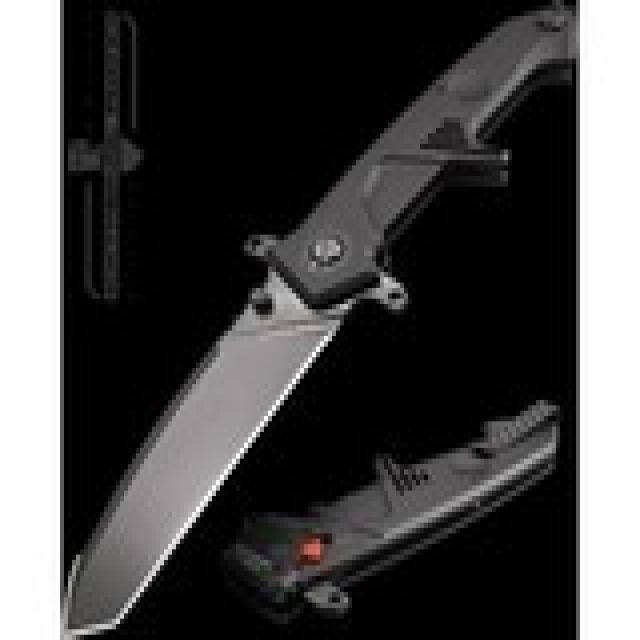Knife: (64, 0, 568, 629)
